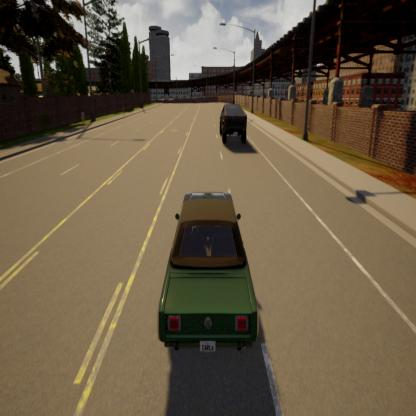Cars: (156, 184, 264, 360), (216, 102, 248, 147)
Pedestrian: (78, 108, 90, 132)
